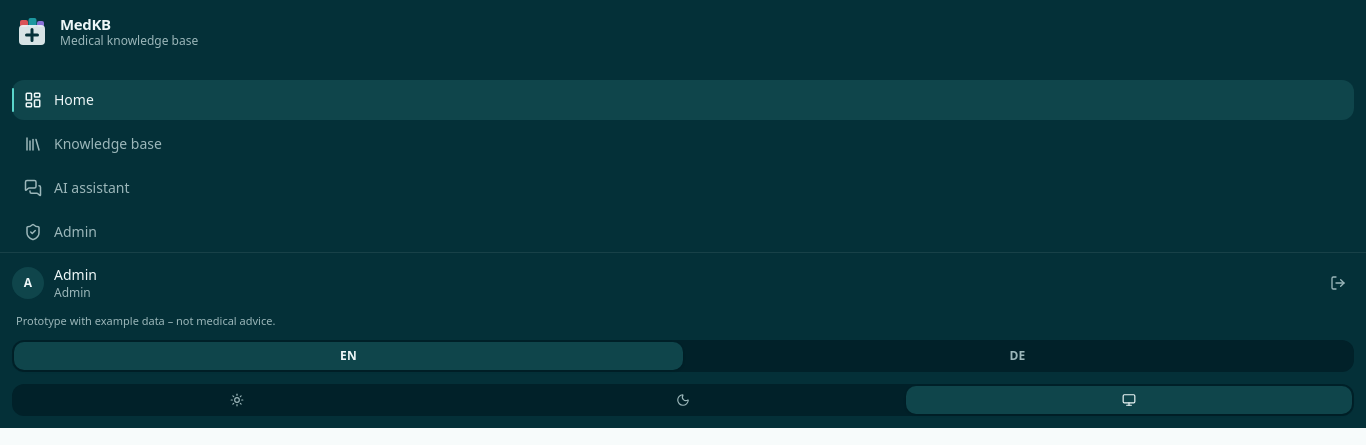
Test: switches the whole sidebar to German with the language switch
The image size is (1366, 445).
Click the button with aria-label "German" at (1018, 356), box [683,342,1352,370]
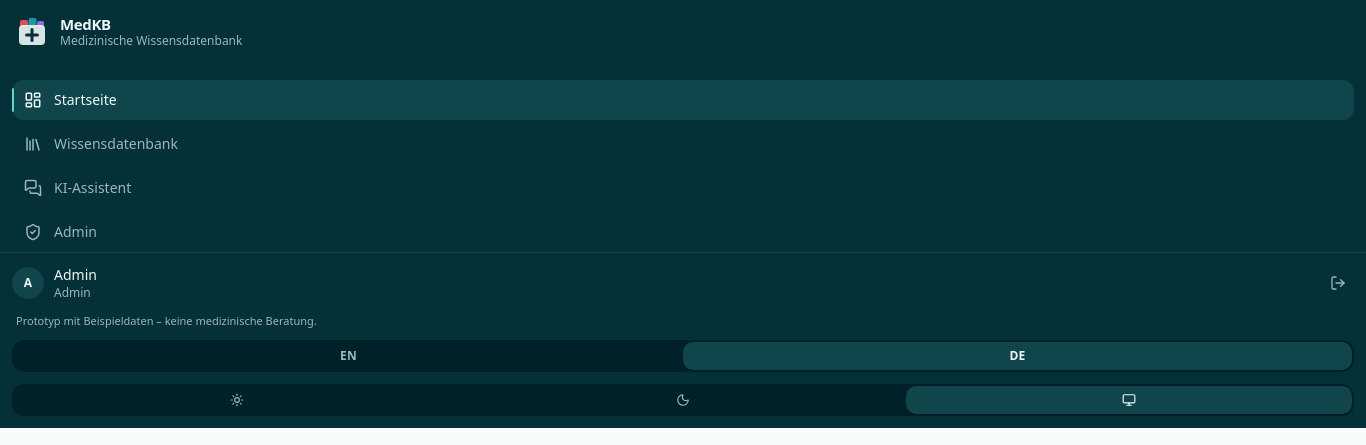
Expected: the button named "Abmelden" is shown, [1322,267,1354,299]
Expected: the navigation bar named "Hauptnavigation" shows "Startseite", [12,80,1354,120]
